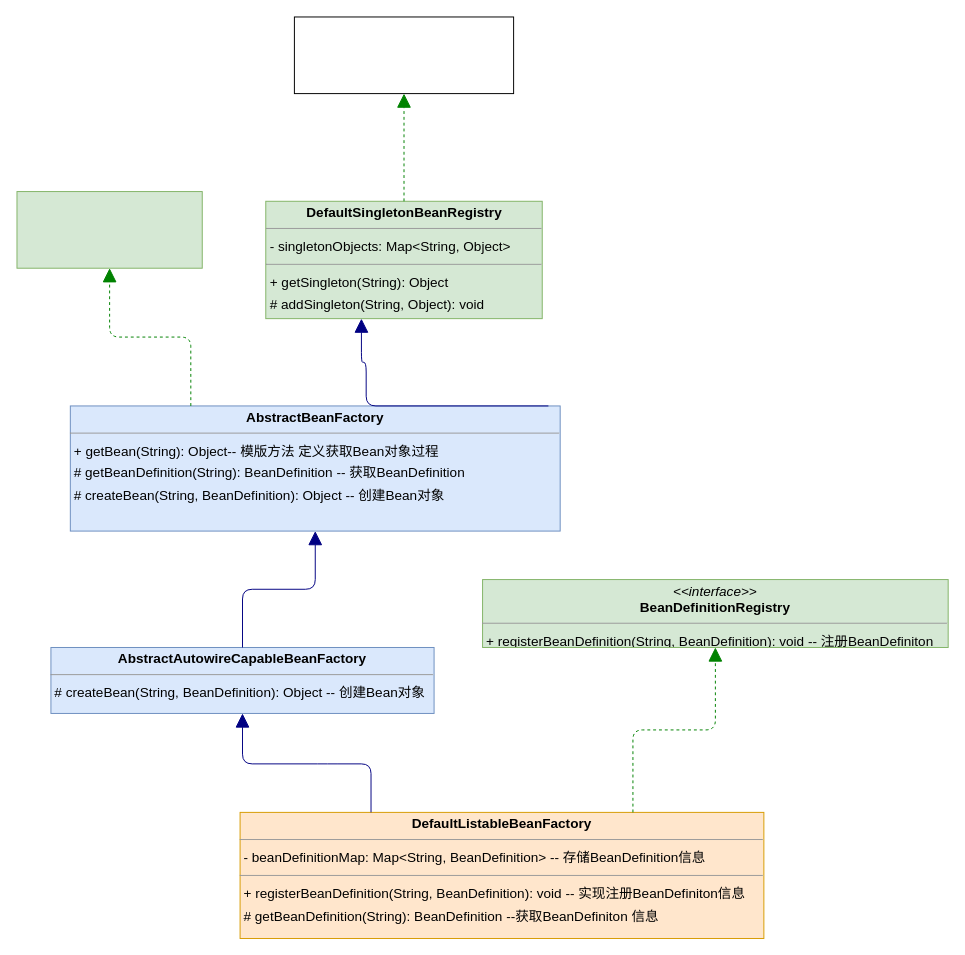
The diagram is 965 pixels wide and 955 high, and some of its shapes have lost their labels. Here are the shapes that lost their labels. From the top down, the centre of each, then its label:
At point (403, 55): "<<interface>> SingletonBeanRegistry + getSingleton(String): Object".
At point (109, 229): "<<interface>> BeanFactory + getBean(String): Object --获取Bean对象".
